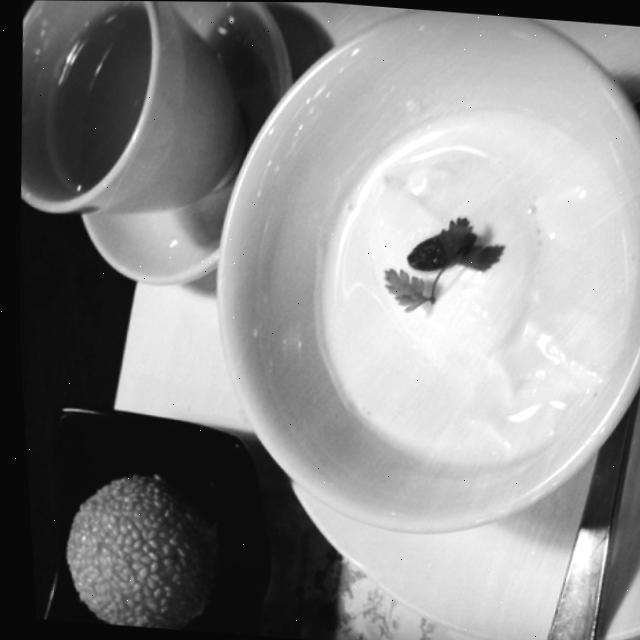带馅早点: (45, 0, 527, 640)
